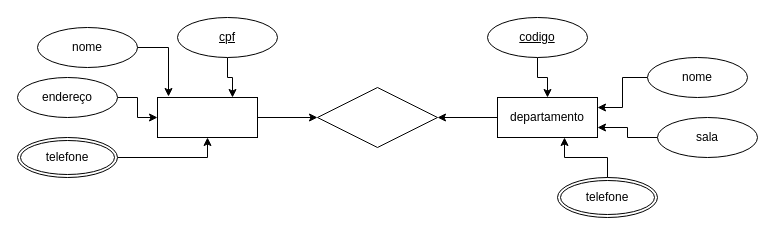
The diagram is 775 pixels wide and 235 high, and some of its shapes have lost their labels. The shapes that lost their labels are listed below. From the top down, each one's centre as x and y in pixels, then its label:
(207,117): diretor
(377,117): gerenciar
